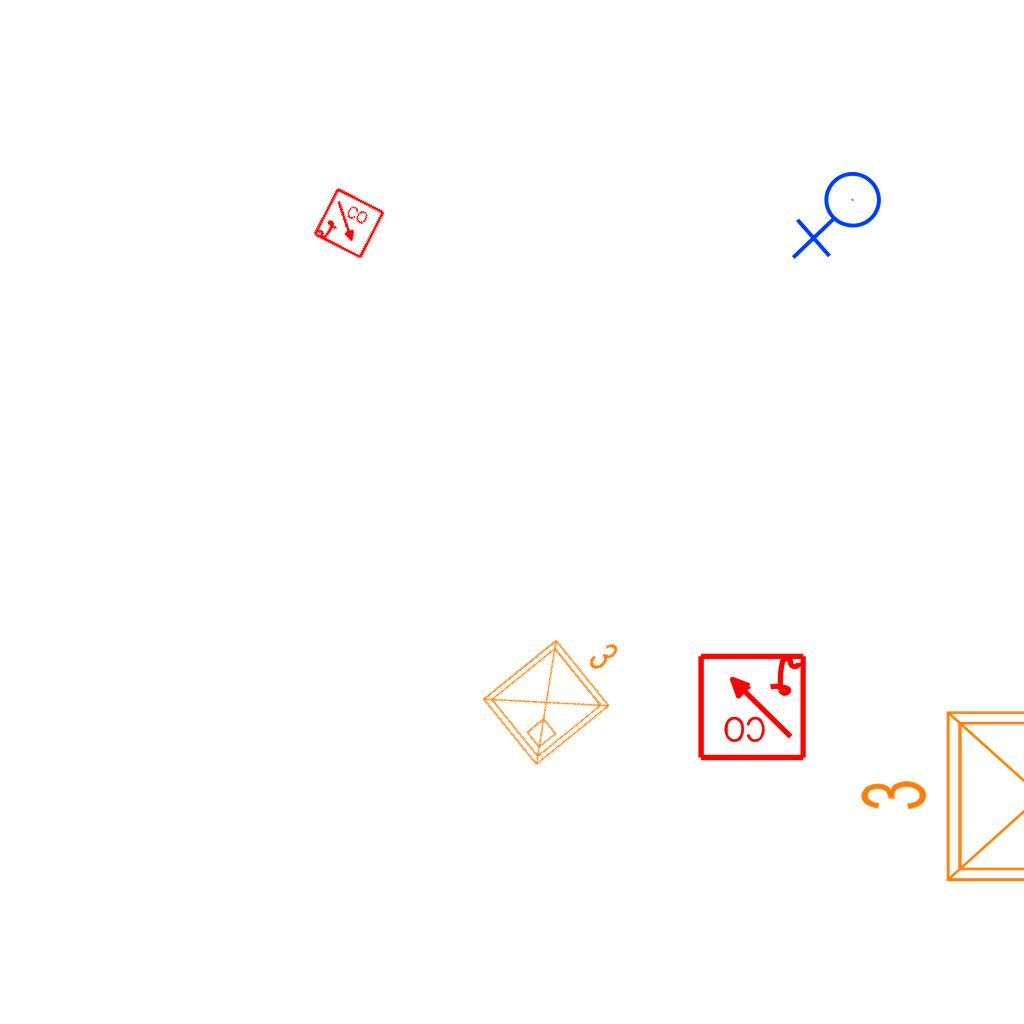Einbaudownlights_LED_Konferenzraeume: (850, 696, 1024, 904), (469, 600, 653, 776)
Elektroanschluss_allgemein_230V_Geraeteanschlussdose_230V: (791, 170, 890, 264)
ROA_Rauchmelder_optisch_mit_Signalgeber_(Sockelsirene): (695, 649, 808, 762), (311, 186, 387, 262)
